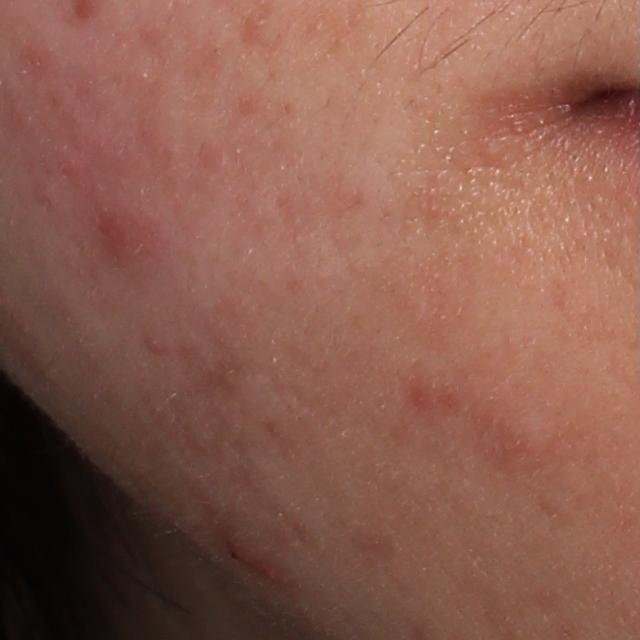papule: (91, 192, 170, 274), (220, 525, 282, 580)
